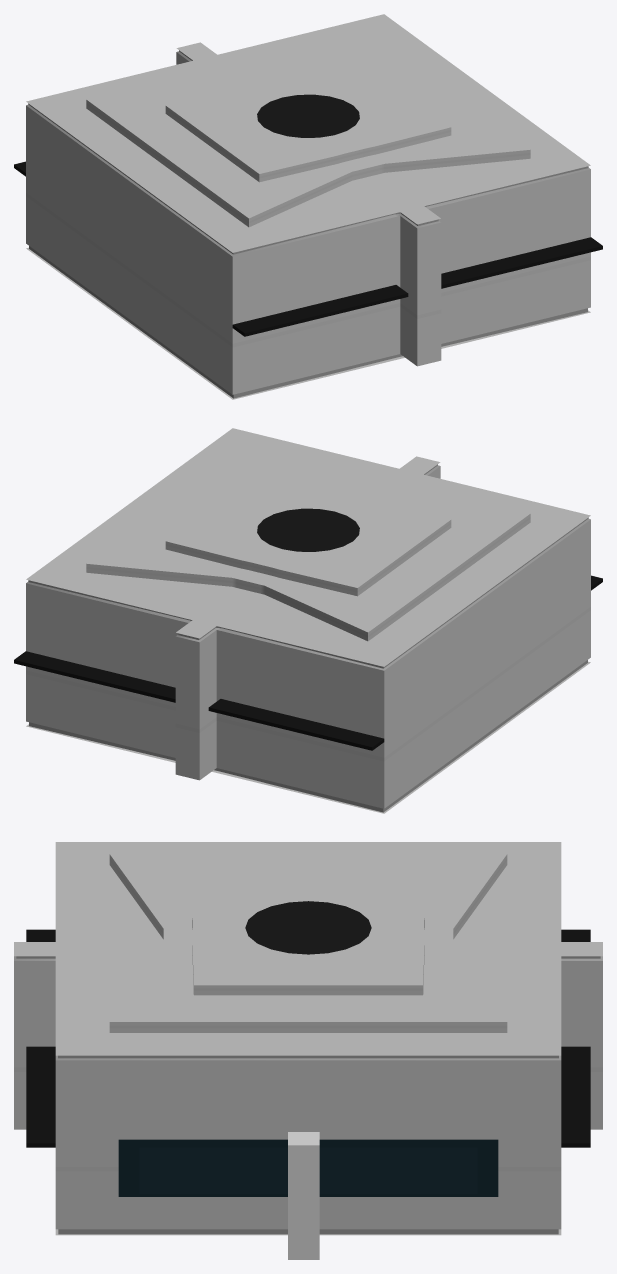
File: Environment.fbx
3 views of the same model, one above another, from view 1: azimuth 30°, elevation 25°; view 2: azimuth 150°, elevation 25°; view 3: azimuth 270°, elevation 25° (orthographic). The views are drawn at different scales.
Parts seen in each view (by area): view 1: Building, EmissiveBlue, RoofPortal; view 2: Building, EmissiveBlue, RoofPortal; view 3: Building, Window, RoofPortal, TwoMetres, EmissiveBlue.
Boxes of the visible parts, x1,y1,x2,y2 form: Building: [14, 14, 602, 399]; EmissiveBlue: [26, 103, 590, 347]; RoofPortal: [257, 94, 359, 137]; Building: [14, 428, 602, 813]; EmissiveBlue: [26, 517, 590, 761]; RoofPortal: [257, 508, 359, 551]; Building: [14, 842, 602, 1235]; Window: [118, 1139, 498, 1196]; RoofPortal: [245, 901, 371, 954]; TwoMetres: [288, 1132, 319, 1259]; EmissiveBlue: [14, 858, 602, 1171].
Bounding box in the file's own units: 892 × 350 × 931.
